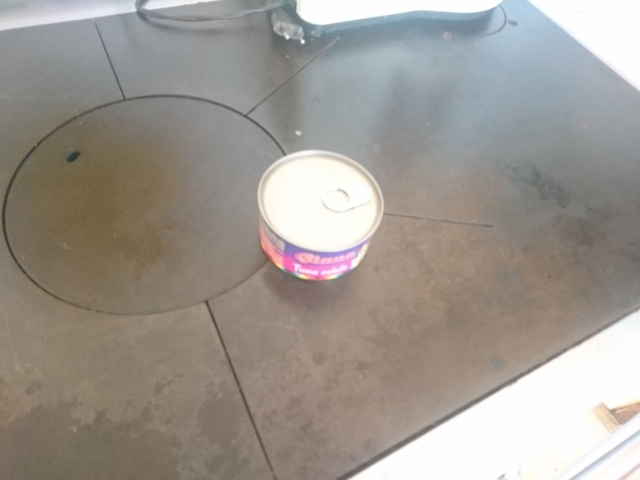Giana Tuna Salad Mexico 185g: (253, 146, 387, 284)
